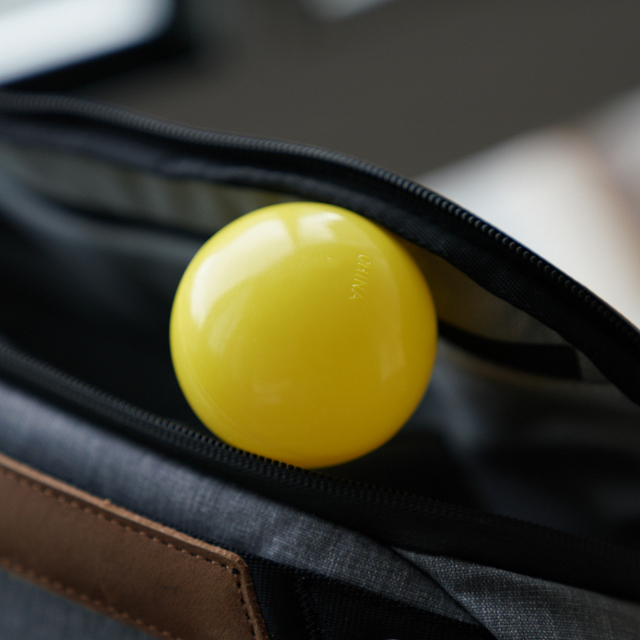Ball: (169, 202, 439, 467)
